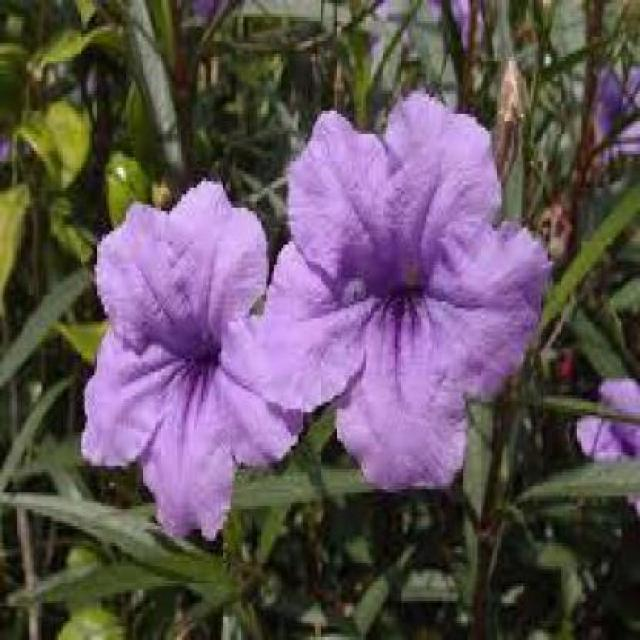flower: (264, 96, 548, 518), (76, 176, 312, 544)
